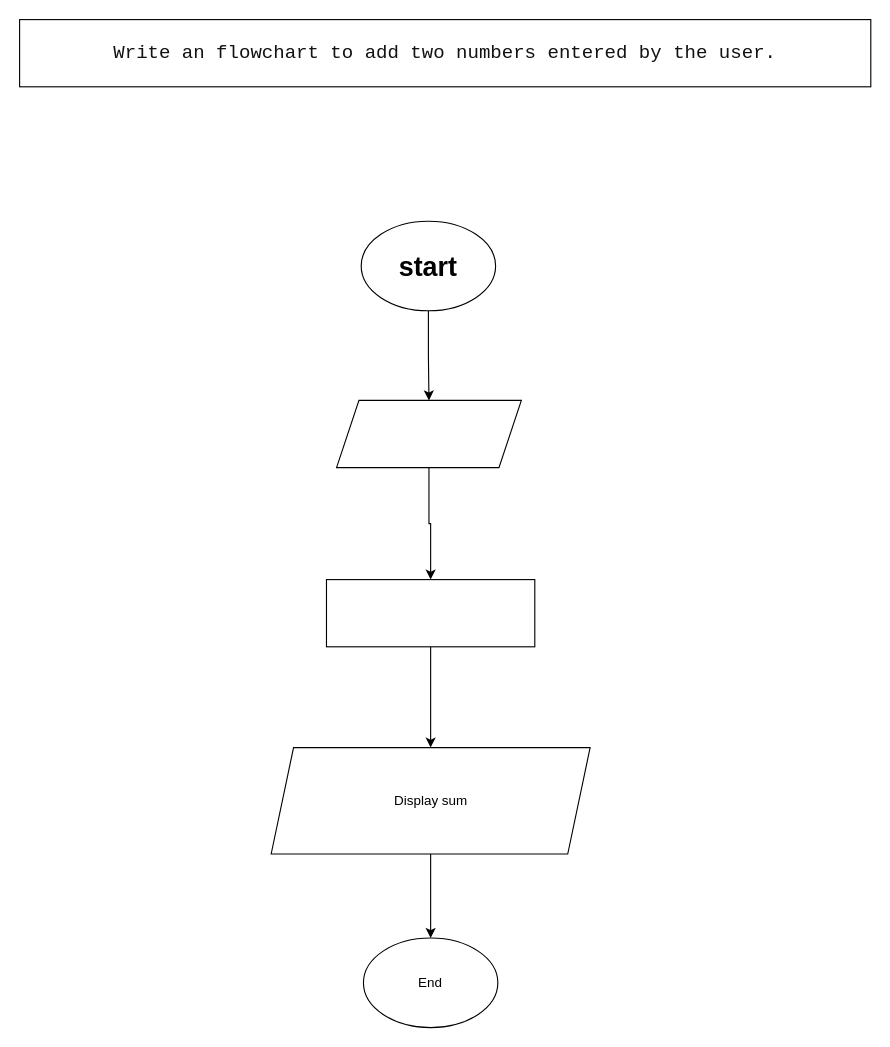
The diagram is 890 pixels wide and 1047 high, and some of its shapes have lost their labels. Each missing label, with the centre of its shape:
input num1 & num2: the point at 428,433
sum =num1 + num2: the point at 430,612
